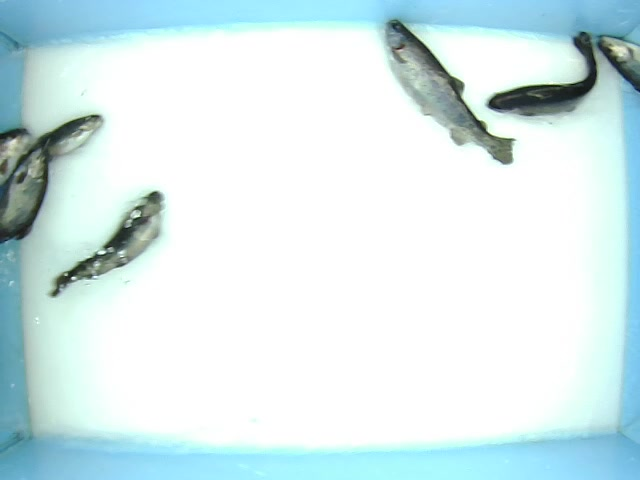fish: (379, 14, 517, 168), (44, 186, 168, 298), (485, 30, 599, 115), (34, 112, 106, 161)
